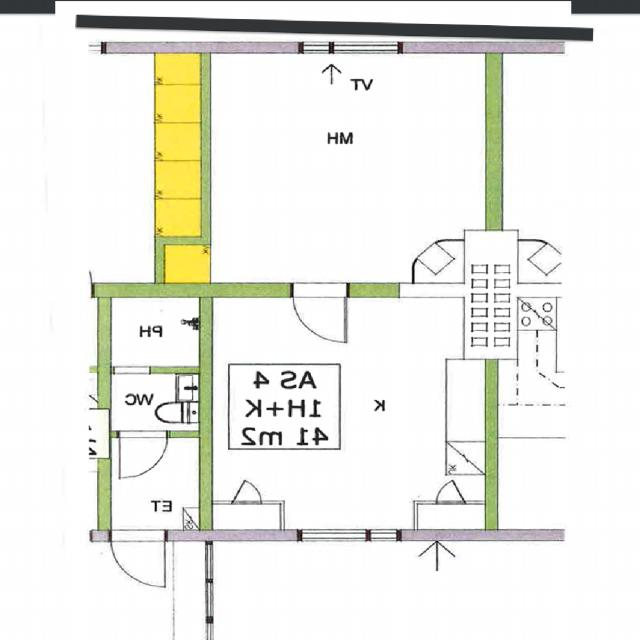door: (293, 283, 346, 342), (112, 530, 164, 586), (120, 430, 167, 478), (232, 476, 262, 504), (437, 476, 466, 504)
